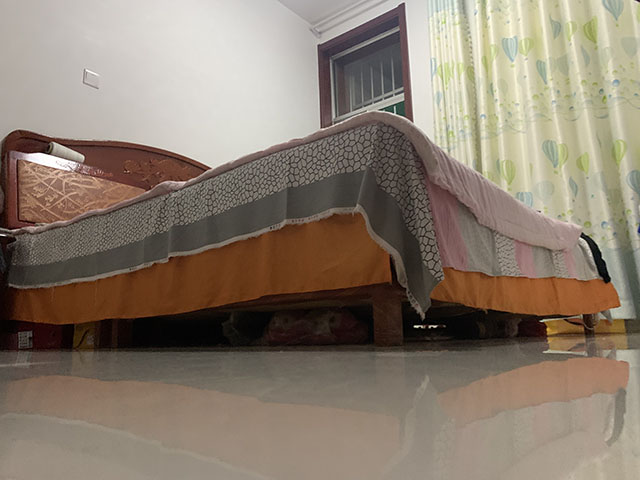bed: (1, 109, 623, 353)
curtain: (425, 1, 640, 322)
